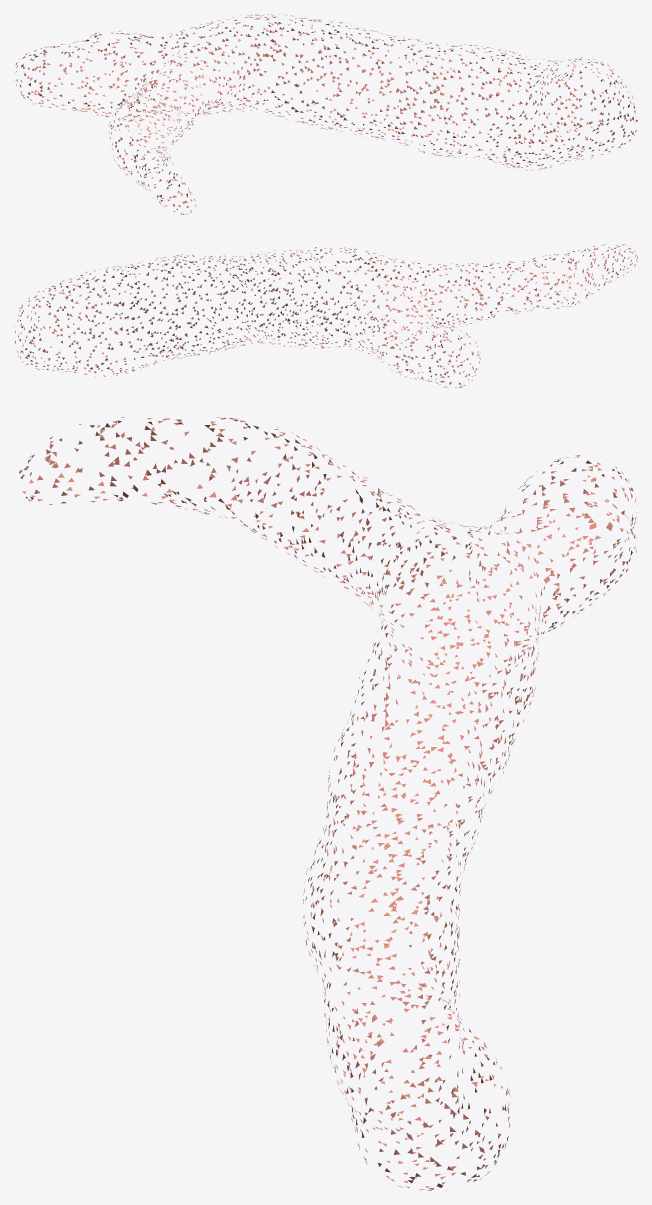
The model's file is morph_002.glb.
The picture shows the model from 3 angles, top to bottom: view 1: azimuth 30°, elevation 25°; view 2: azimuth 150°, elevation 25°; view 3: azimuth 270°, elevation 25°; orthographic projection. The views are drawn at different scales.
Size of the model in its own units: 125 by 44.54 by 70.19.
